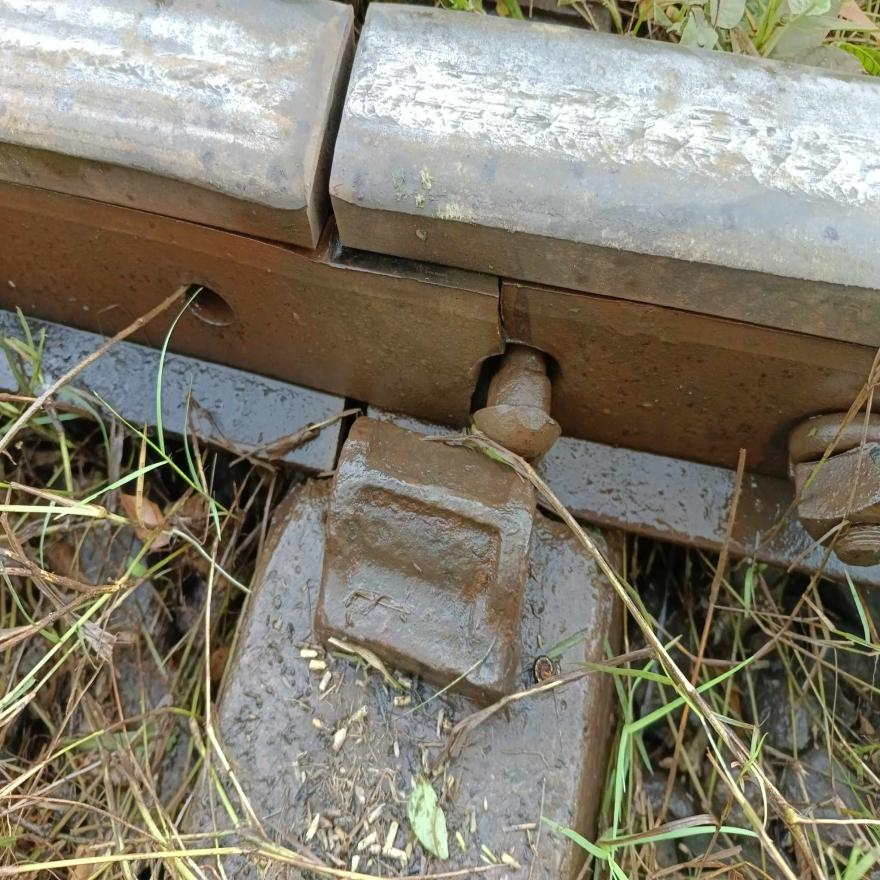railway-gap: (216, 6, 442, 304)
